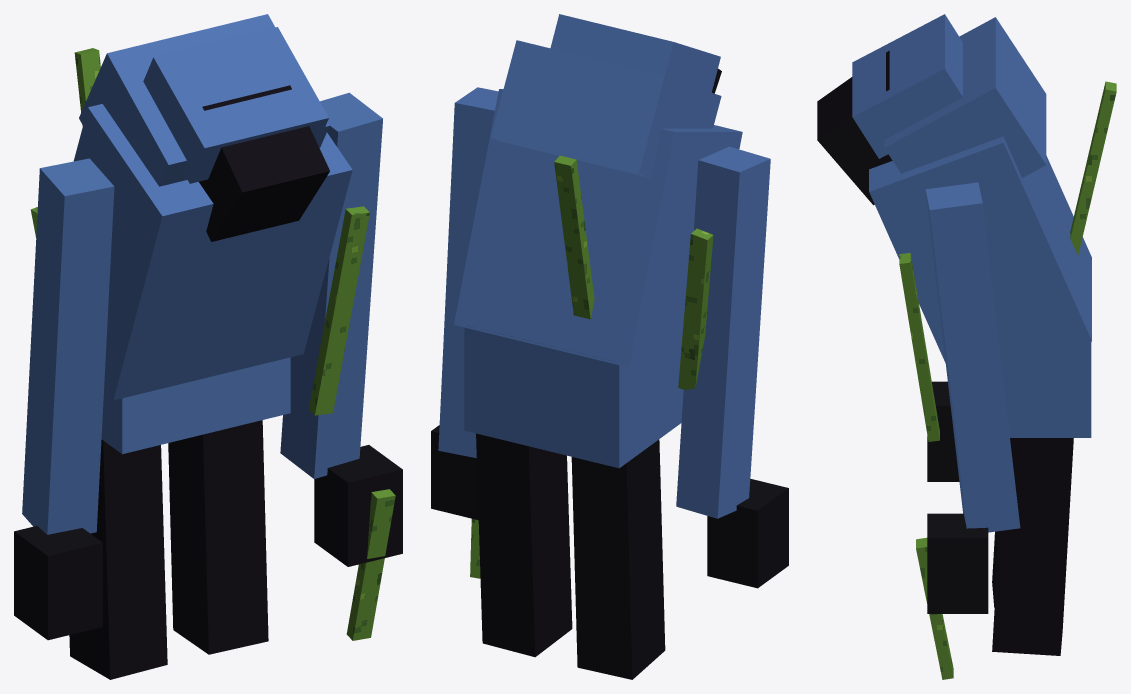
File: drowned_sailor_lowpoly.glb
The picture shows the model from 3 angles, left to right: view 1: azimuth 30°, elevation 25°; view 2: azimuth 150°, elevation 25°; view 3: azimuth 270°, elevation 25°; orthographic projection. The views are drawn at different scales.
Visible parts, largest first — view 1: hunched_torso, long_arm_1, leg_0, collar, leg_1, long_arm_0, hips, slumped_head, void_hand_1, back_hump, void_hand_0, kelp_0 (+2 smaller); view 2: hunched_torso, long_arm_1, hips, back_hump, leg_1, leg_0, long_arm_0, void_hand_1, collar, kelp_3, kelp_1, void_hand_0 (+1 smaller); view 3: hunched_torso, long_arm_0, leg_0, back_hump, collar, hips, void_hand_0, slumped_head, kelp_0, kelp_3, void_hand_1, kelp_2.
Part boxes in pixels (<box>): hunched_torso: <box>73,104,352,400</box>; long_arm_1: <box>22,158,114,534</box>; leg_0: <box>168,420,268,654</box>; collar: <box>143,27,328,183</box>; leg_1: <box>69,439,167,679</box>; long_arm_0: <box>280,92,382,478</box>; hips: <box>101,357,290,454</box>; slumped_head: <box>199,85,329,241</box>; void_hand_1: <box>14,526,102,640</box>; back_hump: <box>79,14,329,186</box>; void_hand_0: <box>314,445,402,566</box>; kelp_0: <box>308,206,369,415</box>; hunched_torso: <box>454,89,742,367</box>; long_arm_1: <box>676,146,770,518</box>; hips: <box>464,325,683,468</box>; back_hump: <box>490,40,721,177</box>; leg_1: <box>571,439,665,679</box>; leg_0: <box>476,433,572,657</box>; long_arm_0: <box>438,87,498,458</box>; void_hand_1: <box>707,478,788,588</box>; collar: <box>550,14,720,92</box>; kelp_3: <box>554,155,594,319</box>; kelp_1: <box>678,228,713,389</box>; void_hand_0: <box>431,425,478,520</box>; hunched_torso: <box>869,136,1091,373</box>; long_arm_0: <box>925,182,1020,532</box>; leg_0: <box>992,438,1073,655</box>; back_hump: <box>884,17,1046,177</box>; collar: <box>852,14,962,158</box>; hips: <box>1002,260,1091,437</box>; void_hand_0: <box>927,513,988,613</box>; slumped_head: <box>817,50,892,205</box>; kelp_0: <box>899,253,939,441</box>; kelp_3: <box>1070,81,1116,255</box>; void_hand_1: <box>927,381,959,481</box>; kelp_2: <box>916,537,953,679</box>.
Size of what is drawn, in the model's own units: 0.97 by 1.67 by 0.7855.
3 materials, 1 textured.
